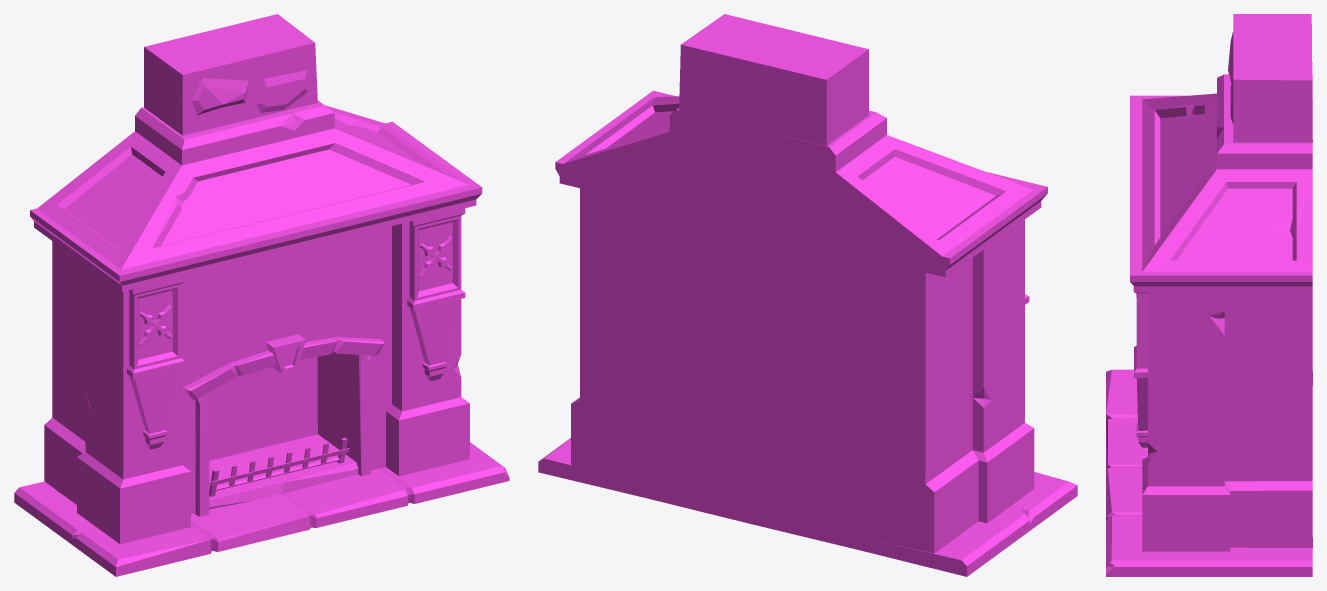
Rendered from SM_Fireplace_Royale_E_Fantasy.fbx.
3 views of the same model, side by side, from view 1: azimuth 30°, elevation 25°; view 2: azimuth 150°, elevation 25°; view 3: azimuth 270°, elevation 25° (orthographic). The views are drawn at different scales.
Parts seen in each view (by area): view 1: SM_Fireplace_Royale_E_Fantasy; view 2: SM_Fireplace_Royale_E_Fantasy; view 3: SM_Fireplace_Royale_E_Fantasy.
Part boxes in pixels (x1,y1,x2,y2): SM_Fireplace_Royale_E_Fantasy: (14,14,509,576); SM_Fireplace_Royale_E_Fantasy: (538,14,1077,576); SM_Fireplace_Royale_E_Fantasy: (1106,14,1312,576).
Size of the model in its own units: 2.91 by 3 by 1.3.
